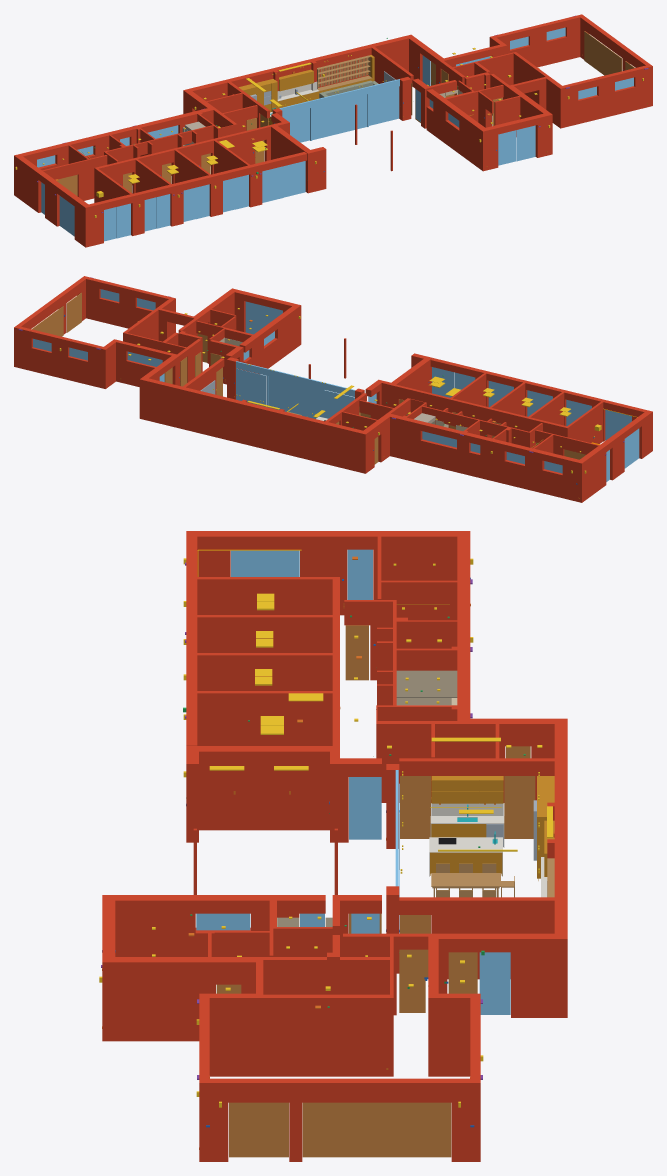
File: ground_floor.glb
3 renders of one model, top to bottom at view 1: azimuth 30°, elevation 25°; view 2: azimuth 150°, elevation 25°; view 3: azimuth 270°, elevation 25°, orthographic. The views are drawn at different scales.
Visible parts, largest first — view 1: masonry__W-002__, masonry__W-005__, masonry__W-029__, masonry__W-013__, masonry__W-030__, masonry__W-054__, masonry__W-026__, masonry__W-027__, glazing__WIN-OP28__, glazing__WIN-OP21__ (×2), masonry__W-001__, masonry__W-067__ (+38 smaller); view 2: masonry__W-029__, masonry__W-026__, masonry__W-027__, masonry__W-005__, masonry__W-030__, masonry__W-013__, masonry__W-054__, masonry__W-002__, glazing__WIN-OP28__, masonry__W-025__, masonry__W-067__, masonry__W-022__ (+31 smaller); view 3: masonry__W-049__, masonry__W-066__, masonry__W-067__, masonry__W-063__, masonry__W-030__, door__D-OP50__, masonry__W-054__, masonry__W-044__, masonry__W-060__, masonry__W-056__, masonry__W-034__, masonry__W-041__ (+41 smaller).
Boxes of the visible parts, left/top/right/bottom form: masonry__W-002__: left=89, top=152, right=307, bottom=245; masonry__W-005__: left=558, top=65, right=648, bottom=128; masonry__W-029__: left=183, top=34, right=413, bottom=113; masonry__W-013__: left=94, top=125, right=270, bottom=202; masonry__W-030__: left=17, top=156, right=91, bottom=247; masonry__W-054__: left=426, top=89, right=488, bottom=171; masonry__W-026__: left=14, top=107, right=216, bottom=197; masonry__W-027__: left=489, top=15, right=580, bottom=67; glazing__WIN-OP28__: left=312, top=94, right=367, bottom=140; glazing__WIN-OP21__ (×2): left=262, top=161, right=305, bottom=202; masonry__W-001__: left=485, top=113, right=546, bottom=169; masonry__W-067__: left=578, top=14, right=652, bottom=106; masonry__W-029__: left=139, top=377, right=368, bottom=473; masonry__W-026__: left=385, top=413, right=585, bottom=502; masonry__W-027__: left=18, top=326, right=107, bottom=388; masonry__W-005__: left=86, top=277, right=175, bottom=333; masonry__W-030__: left=580, top=410, right=652, bottom=500; masonry__W-013__: left=394, top=384, right=569, bottom=437; masonry__W-054__: left=239, top=304, right=301, bottom=374; masonry__W-002__: left=430, top=358, right=646, bottom=441; glazing__WIN-OP28__: left=268, top=376, right=322, bottom=418; masonry__W-025__: left=112, top=339, right=173, bottom=386; masonry__W-067__: left=14, top=276, right=88, bottom=367; masonry__W-022__: left=422, top=406, right=530, bottom=447; masonry__W-049__: left=186, top=746, right=339, bottom=830; masonry__W-066__: left=263, top=994, right=393, bottom=1076; masonry__W-067__: left=199, top=1078, right=480, bottom=1161; masonry__W-063__: left=102, top=957, right=263, bottom=1041; masonry__W-030__: left=186, top=531, right=457, bottom=615; door__D-OP50__: left=302, top=1102, right=451, bottom=1157; masonry__W-054__: left=102, top=895, right=325, bottom=956; masonry__W-044__: left=197, top=691, right=332, bottom=745; masonry__W-060__: left=428, top=933, right=554, bottom=1017; masonry__W-056__: left=399, top=897, right=554, bottom=979; masonry__W-034__: left=197, top=615, right=332, bottom=652; masonry__W-041__: left=197, top=653, right=332, bottom=690.
Bounding box in the file's own units: 45.25 × 4.87 × 16.15.
